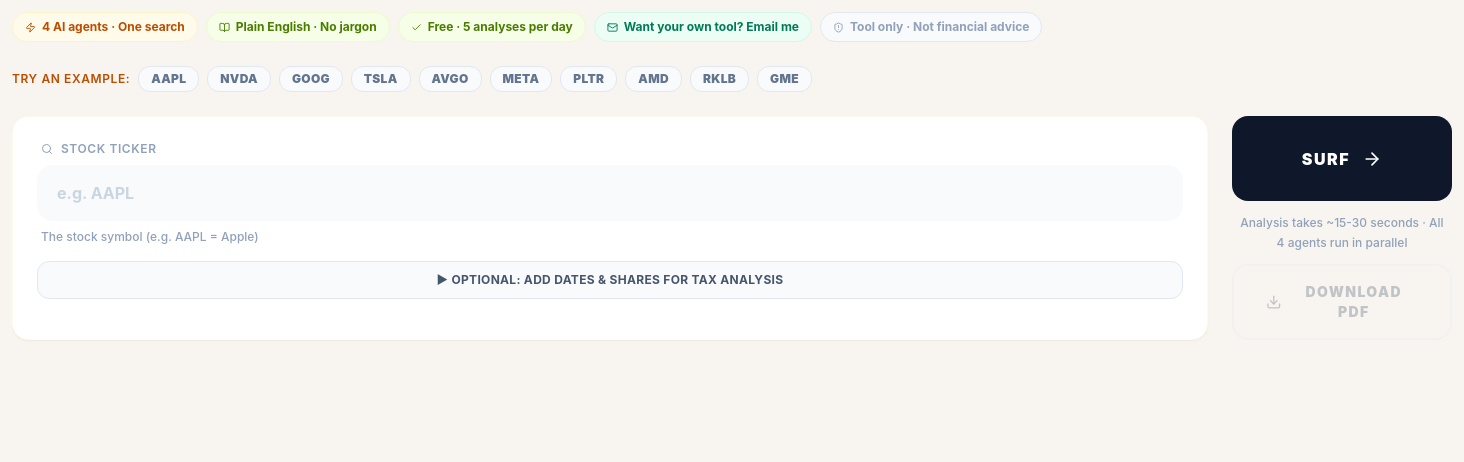
Test: aria-expanded: SearchForm advanced toggle › updates to true after click
Click the button "► Optional: Add dates & shares for tax analysis" at [610, 280], box [37,261,1183,299]
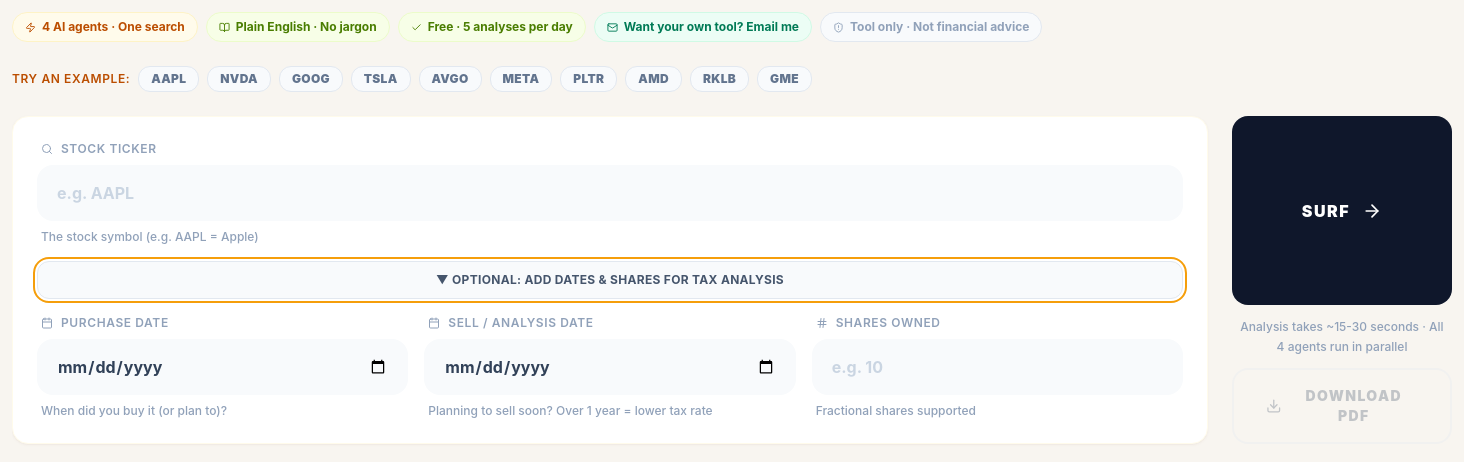
Result: the button "▼ Optional: Add dates & shares for tax analysis" is expanded at [37,261,1183,299]
